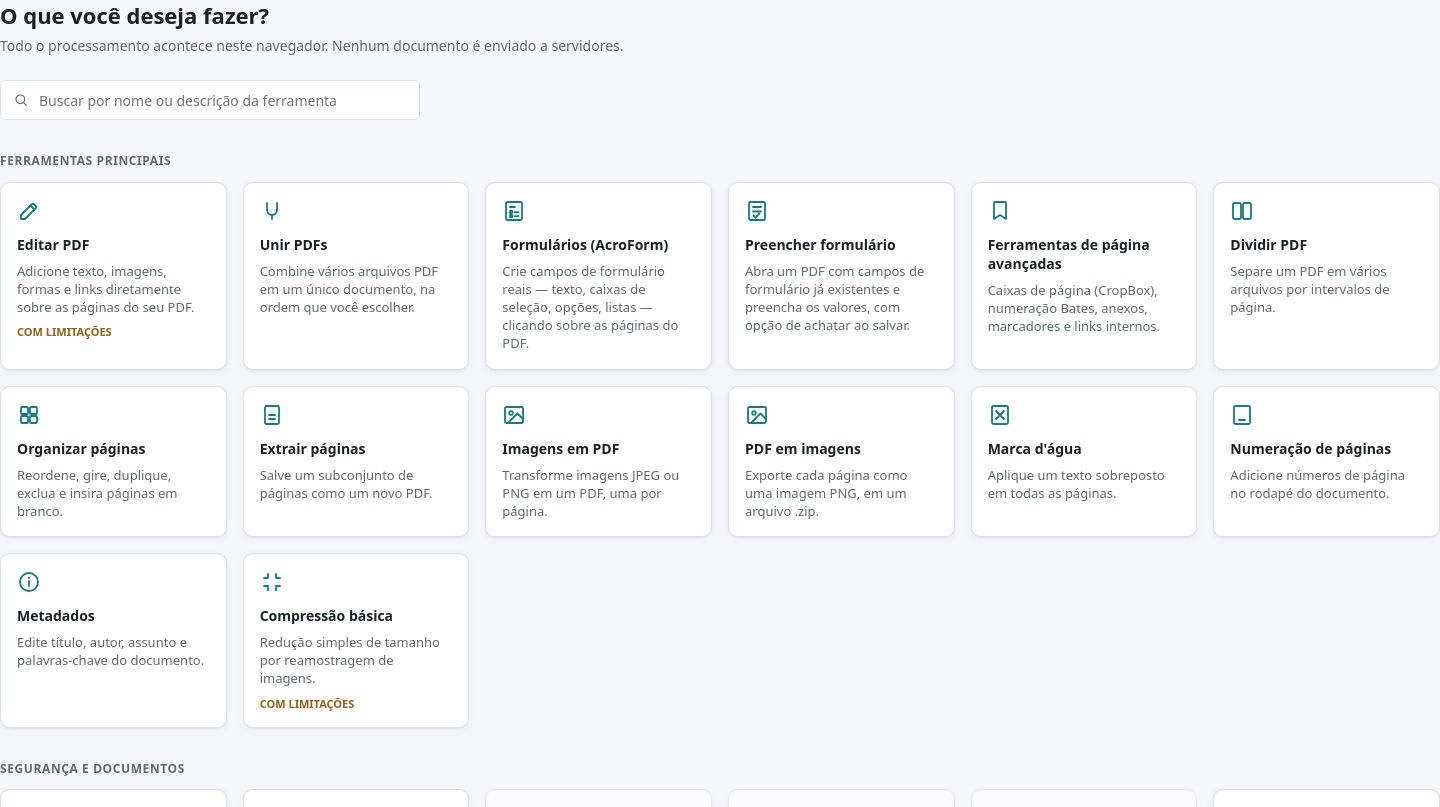
Test: HomeScreen › filtra os cartões pela busca (título e descrição)
Type "marca d" into the field named "Buscar ferramentas".
click(222, 100); type("marca d")  # box [37,90,407,111]
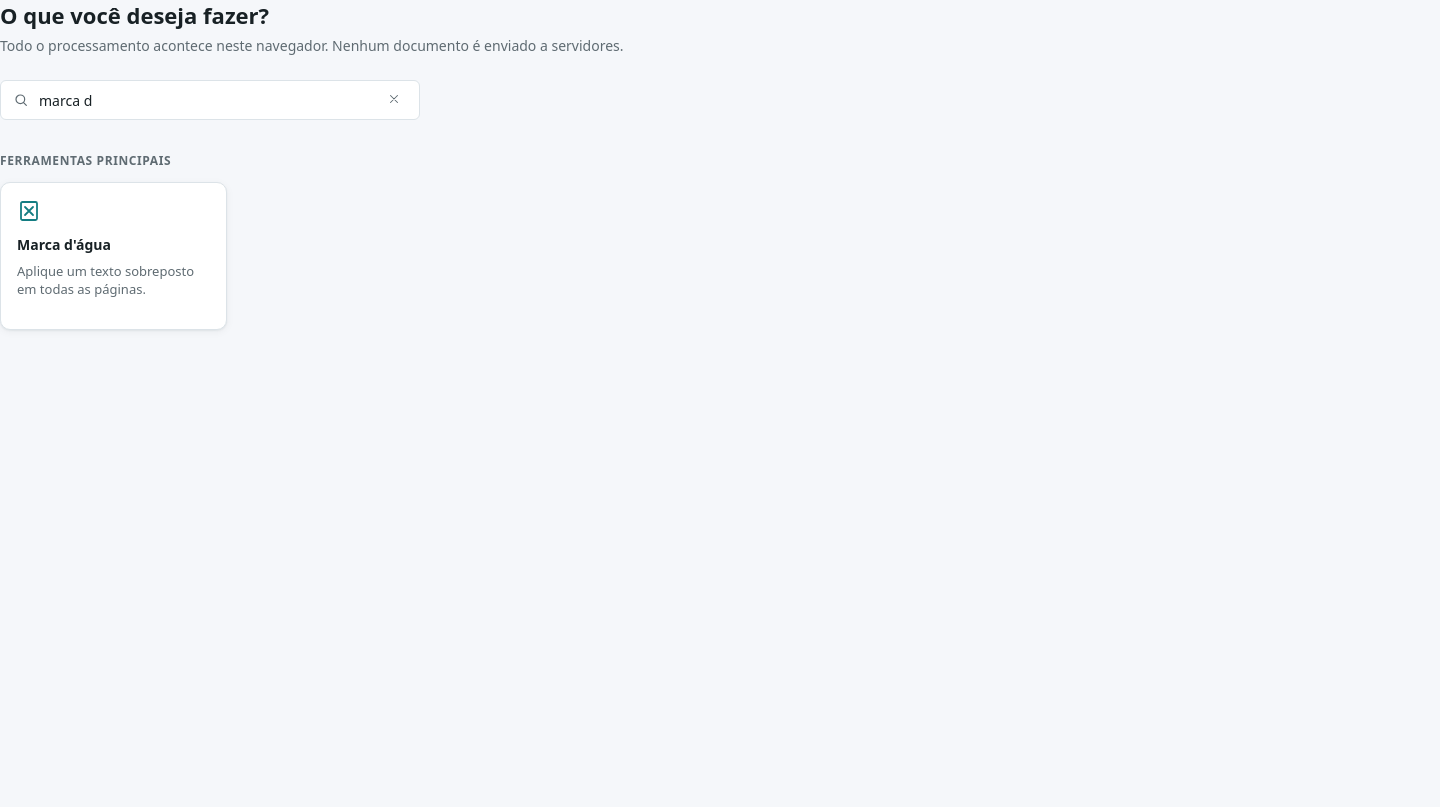
Expected: the text "Marca d'água" is shown, [17,235,111,254]
Now the button "Unir PDFs" is gone
